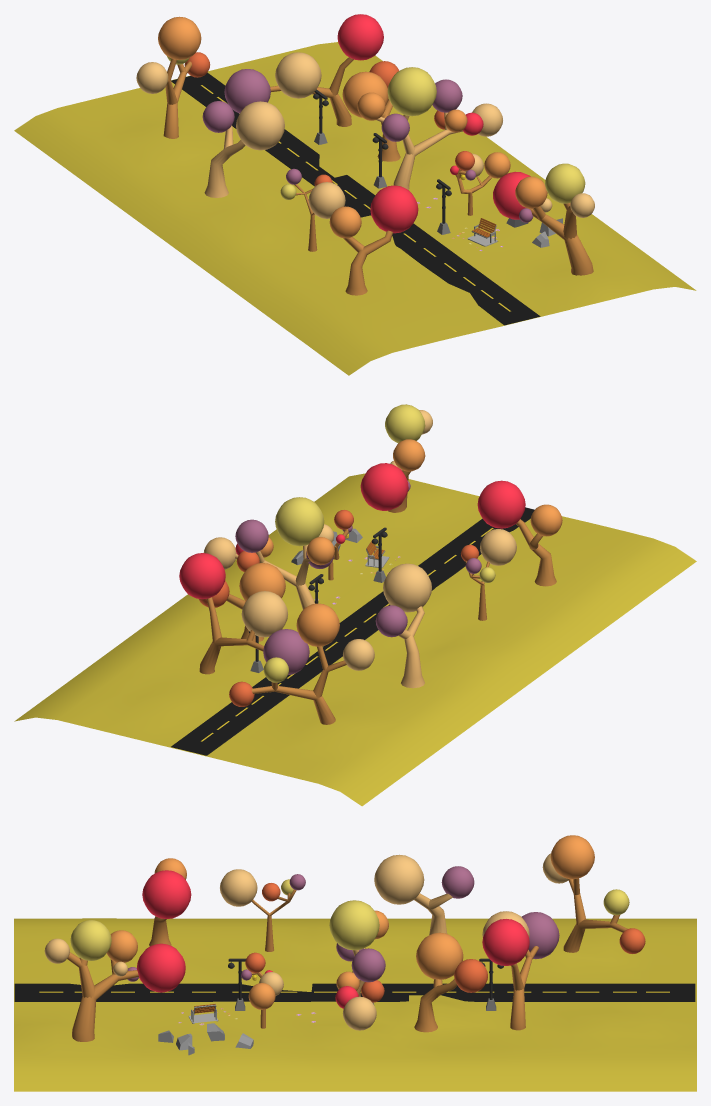
3 renders of one model, top to bottom at view 1: azimuth 30°, elevation 25°; view 2: azimuth 150°, elevation 25°; view 3: azimuth 270°, elevation 25°, orthographic.
Parts seen in each view (by area): view 1: Plane, path, Sphere.021, Sphere.007, Sphere.001, Sphere.027, Sphere.028, tree5R, Sphere.010, Sphere.029, Sphere.015, Sphere.026 (+16 smaller); view 2: Plane, path, Sphere.021, Sphere.007, Sphere.001, Sphere.013, Sphere.027, Sphere.028, Sphere.010, tree4L, Sphere.029, Sphere.026 (+13 smaller); view 3: Plane, path, Sphere.021, Sphere.007, tree5R, Sphere.001, Sphere.013, Sphere.027, Sphere.026, Sphere.010, Sphere.015, tree4L (+19 smaller).
Boxes of the visible parts, x1,y1,x2,y2 form: Plane: (14,42,696,375); path: (171,72,540,325); Sphere.021: (387,67,436,116); Sphere.007: (236,101,284,150); Sphere.001: (370,185,418,233); Sphere.027: (337,14,383,60); Sphere.028: (275,52,321,98); tree5R: (526,203,593,275); Sphere.010: (158,16,201,59); Sphere.029: (224,69,270,113); Sphere.015: (545,163,585,203); Sphere.026: (342,71,388,117); Plane: (14,473,696,806); path: (171,507,534,755); Sphere.021: (275,497,324,546); Sphere.007: (383,563,431,612); Sphere.001: (477,480,525,528); Sphere.013: (360,463,408,510); Sphere.027: (179,553,225,599); Sphere.028: (241,591,287,637); Sphere.010: (296,603,339,646); tree4L: (251,646,346,724); Sphere.029: (263,629,309,674); Sphere.026: (239,563,285,601); Plane: (14,918,696,1091); path: (14,983,695,1001); Sphere.021: (329,900,379,950); Sphere.007: (374,854,424,904); tree5R: (67,952,138,1041); Sphere.001: (142,870,191,918); Sphere.013: (136,943,185,992); Sphere.027: (482,919,529,965); Sphere.026: (416,932,463,979); Sphere.010: (550,835,594,879); Sphere.015: (70,920,111,960); tree4L: (563,878,627,952).
Size of the model in its own units: 44.18 by 15.88 by 73.61.
